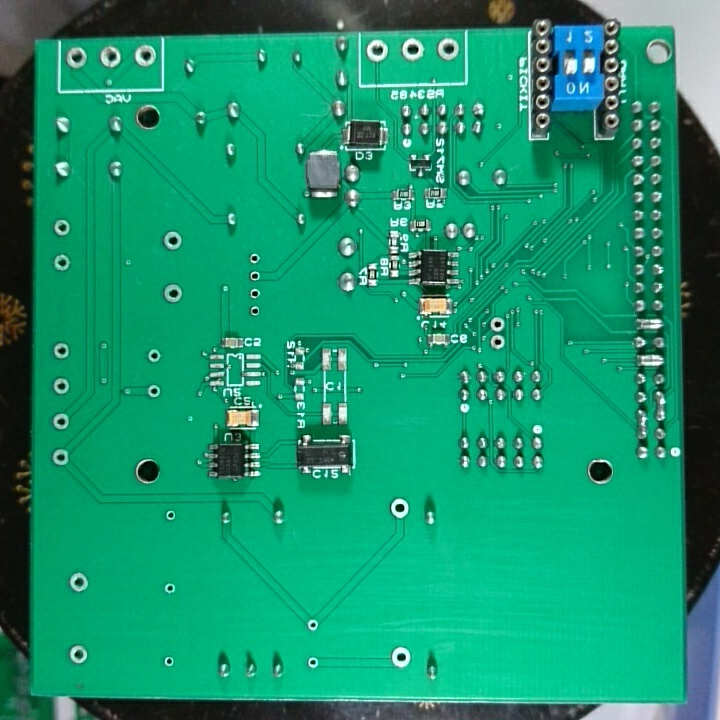F: (434, 35, 462, 63), (63, 44, 90, 72), (364, 37, 391, 64), (97, 43, 123, 71), (131, 43, 159, 69), (399, 35, 425, 63), (388, 643, 414, 670), (66, 641, 91, 666), (66, 570, 91, 595), (159, 229, 185, 252), (161, 281, 185, 305), (388, 495, 411, 520), (50, 374, 72, 397), (50, 410, 71, 434), (51, 251, 72, 275), (50, 446, 71, 468), (51, 340, 71, 363), (51, 218, 73, 238), (487, 332, 508, 352), (488, 314, 508, 334), (145, 346, 165, 366), (245, 285, 265, 303), (245, 303, 266, 320), (304, 653, 322, 672), (162, 506, 179, 525), (246, 249, 265, 266), (246, 268, 265, 285), (162, 580, 179, 598), (145, 382, 162, 400), (305, 616, 321, 635), (161, 652, 176, 672)
P: (631, 351, 668, 369), (651, 386, 669, 423), (633, 405, 651, 441), (633, 315, 665, 332)
